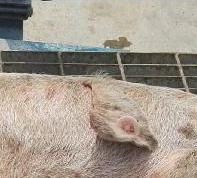text: (107, 108, 150, 147)
